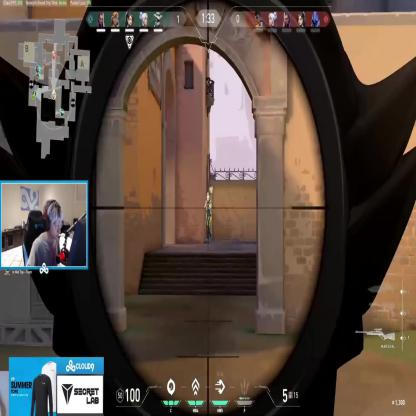enemy: (203, 192, 212, 243)
enemy_head: (206, 193, 210, 201)
